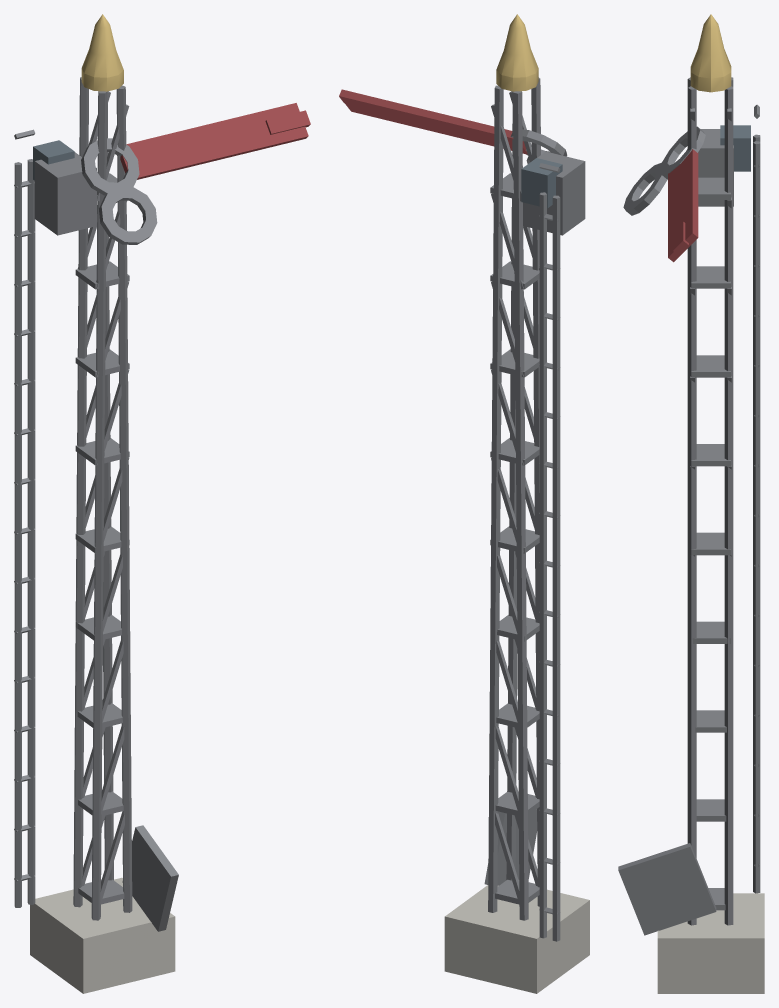
The model's file is steam-era-railway-and-rolling-stock-semaphore-signal-c-d3a16948.glb.
The picture shows the model from 3 angles, left to right: view 1: azimuth 30°, elevation 25°; view 2: azimuth 150°, elevation 25°; view 3: azimuth 270°, elevation 25°; orthographic projection.
Visible parts, largest first — view 1: semaphore-signal-clear, signal-arm (×2); view 2: semaphore-signal-clear, signal-arm (×2); view 3: semaphore-signal-clear, signal-arm (×2).
Boxes of the visible parts, <box> form: semaphore-signal-clear: <box>14,14,178,993</box>; signal-arm (×2): <box>81,103,310,244</box>; semaphore-signal-clear: <box>444,14,589,993</box>; signal-arm (×2): <box>339,89,567,163</box>; semaphore-signal-clear: <box>618,14,764,993</box>; signal-arm (×2): <box>623,126,705,262</box>.
Size of the model in its own units: 1.93 by 6.9 by 0.9559.
